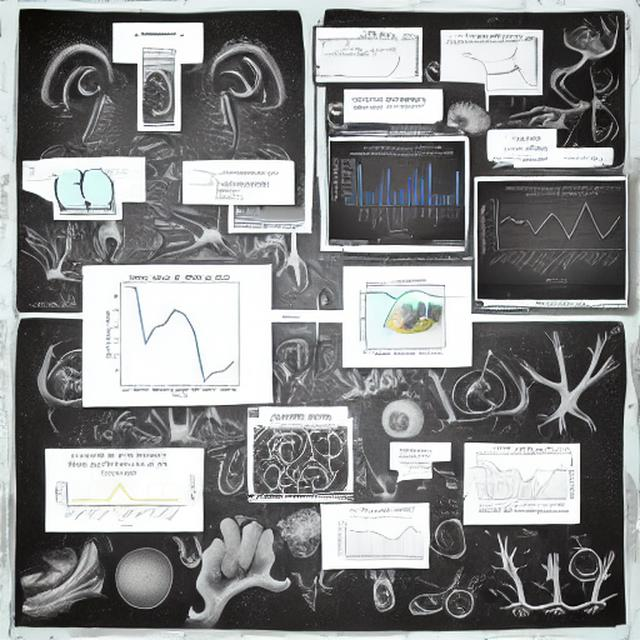Graph: (88, 266, 267, 400), (480, 183, 626, 287), (331, 143, 464, 237), (50, 450, 187, 530), (335, 514, 426, 565)
